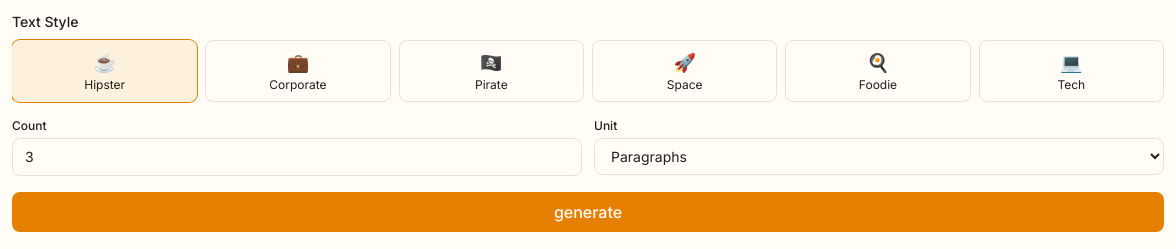
Scenario: LoremIpsumAlternative - Deep Tests › enforces minimum count of 1
Replace the text in the number field with "0": (297, 157) [12, 138, 582, 176]
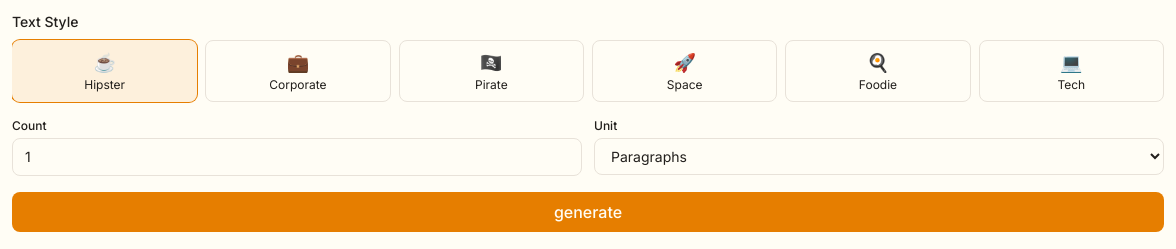
Expected: the number field holds "1", [12, 138, 582, 176]
